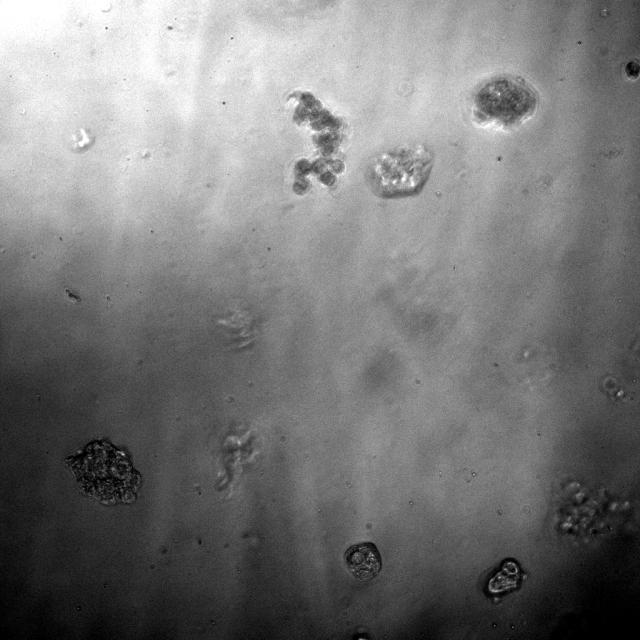organoid: (290, 92, 346, 194), (552, 478, 636, 543), (66, 440, 141, 505), (467, 73, 538, 132), (366, 143, 432, 198), (484, 557, 527, 602), (343, 540, 382, 583), (625, 59, 639, 79)
